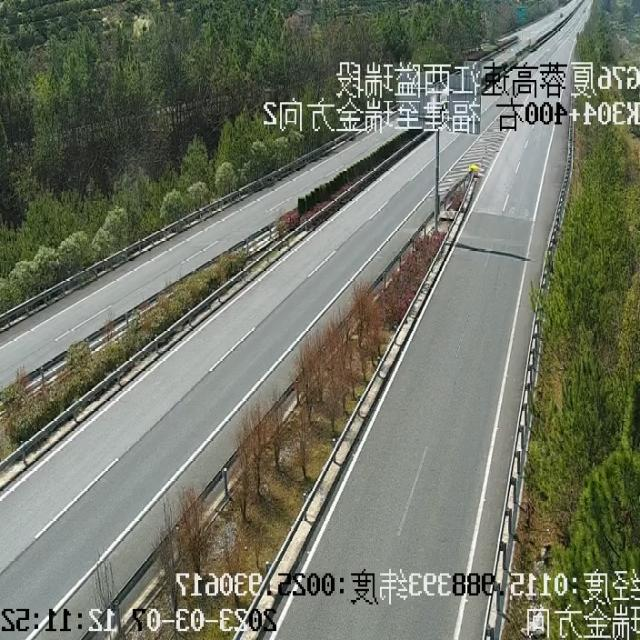point: (526, 0, 596, 55)
